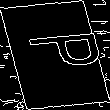P_E: (8, 33, 102, 77)
